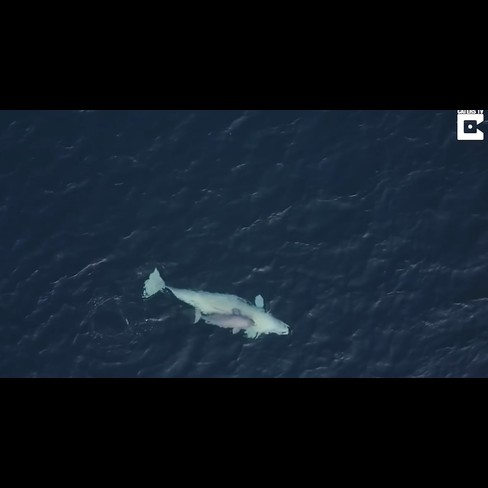beluga: (137, 263, 295, 344), (190, 303, 258, 337)
